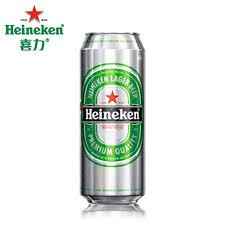beer: (79, 32, 147, 206)
